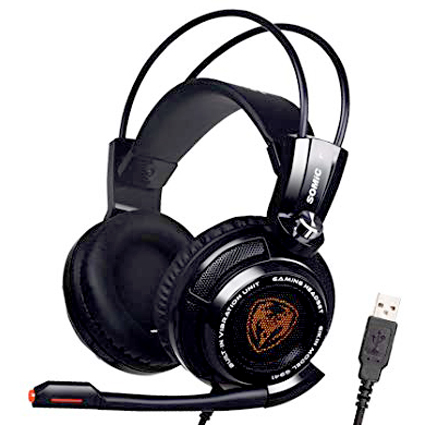Headphone: (58, 3, 352, 404)
